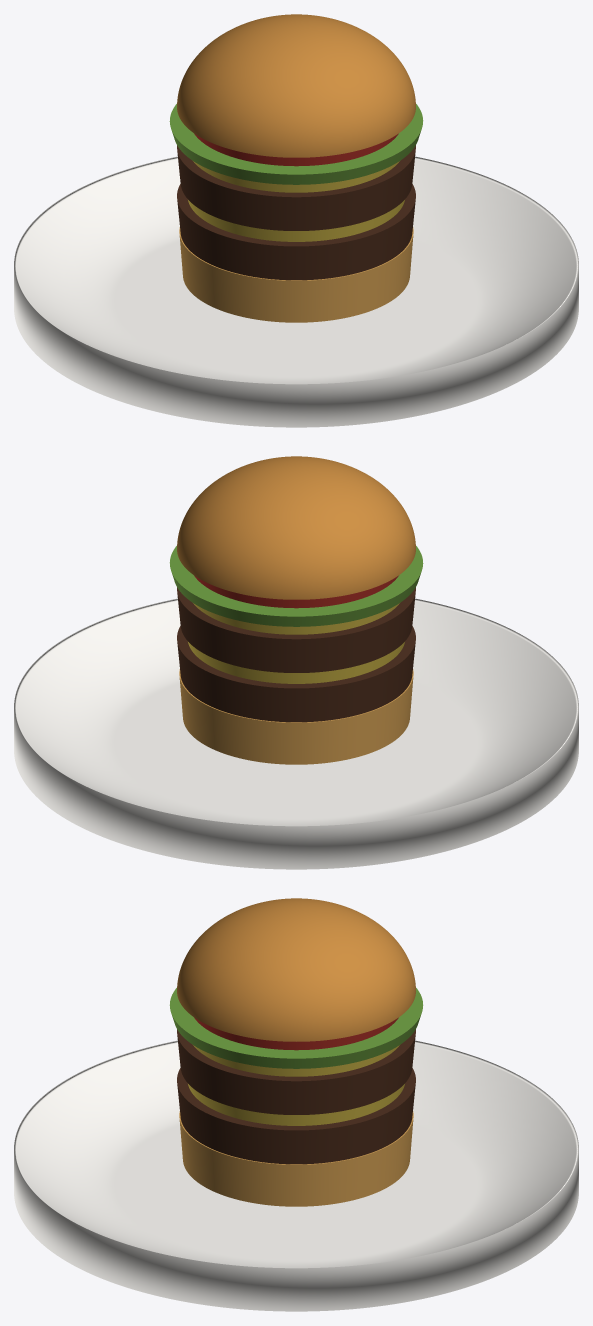
File: burger-2-hero.glb
The picture shows the model from 3 angles, top to bottom: view 1: azimuth 30°, elevation 25°; view 2: azimuth 150°, elevation 25°; view 3: azimuth 270°, elevation 25°; orthographic projection.
Size of the model in its own units: 0.26 by 0.1416 by 0.26.
